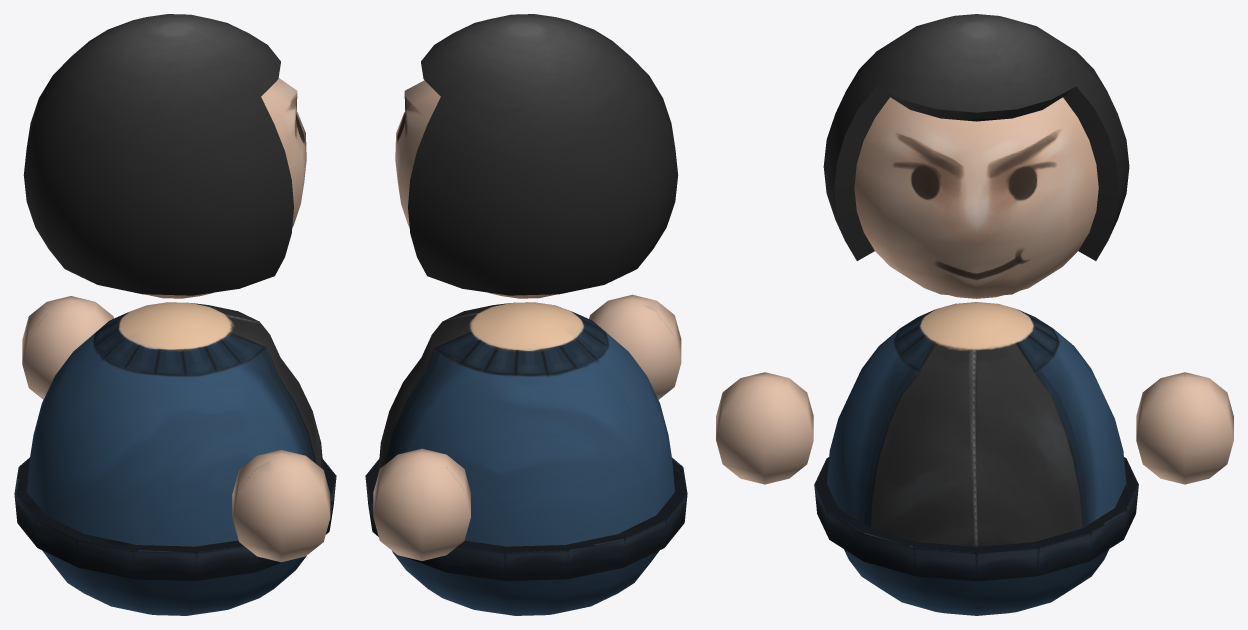
Rendered from Character male.fbx.
3 views of the same model, side by side, from view 1: azimuth 30°, elevation 25°; view 2: azimuth 150°, elevation 25°; view 3: azimuth 270°, elevation 25° (orthographic).
Parts seen in each view (by area): view 1: pSphere7; view 2: pSphere7; view 3: pSphere7.
Boxes of the visible parts, <box> form: pSphere7: <box>14,14,336,615</box>; pSphere7: <box>365,14,687,615</box>; pSphere7: <box>716,14,1233,615</box>.
Size of the model in its own units: 0.9447 by 1.81 by 1.51.
